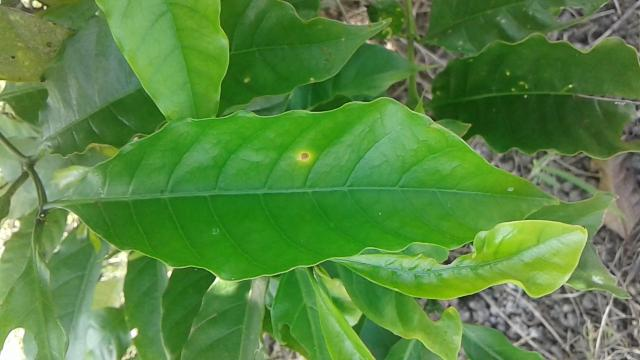rust_level_1: (62, 94, 564, 284)
